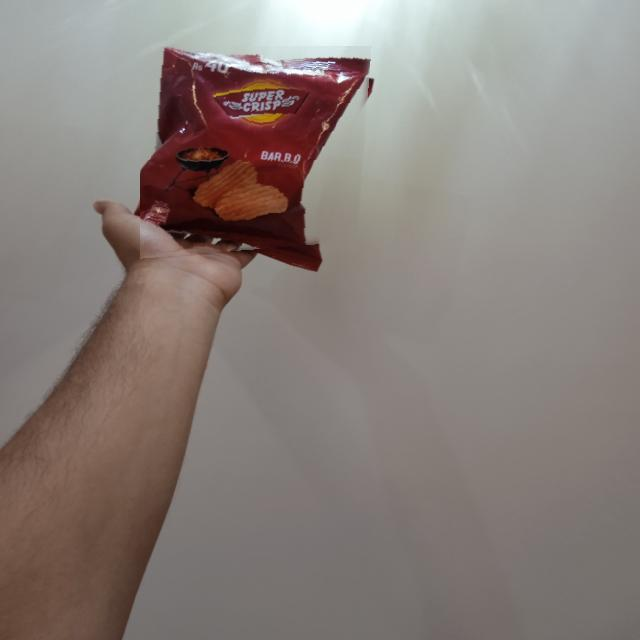Plastic: (140, 46, 373, 260)
